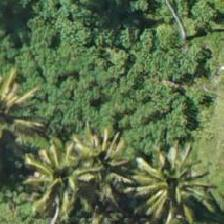coconut_tree: (57, 120, 147, 210), (25, 135, 115, 223), (127, 157, 217, 223)
